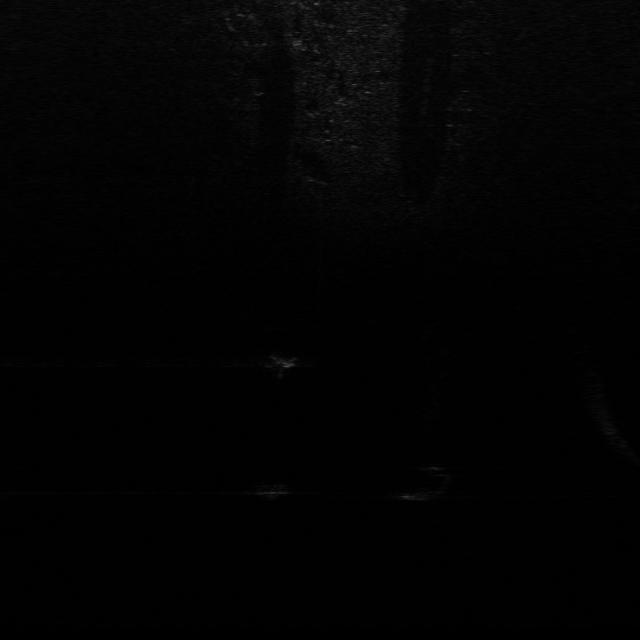cube: (253, 478, 296, 498)
square cage: (266, 351, 304, 377)
tyre: (396, 458, 460, 506)
